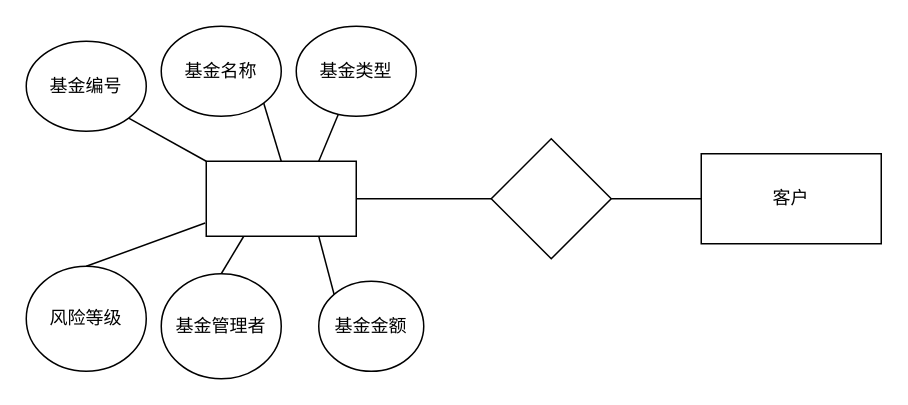
The diagram is 908 pixels wide and 405 high, and some of its shapes have lost their labels. The centre of each missing label's shape, as x and y in pixels:
"基金" goes at (280,198).
"购买" goes at (550,198).
